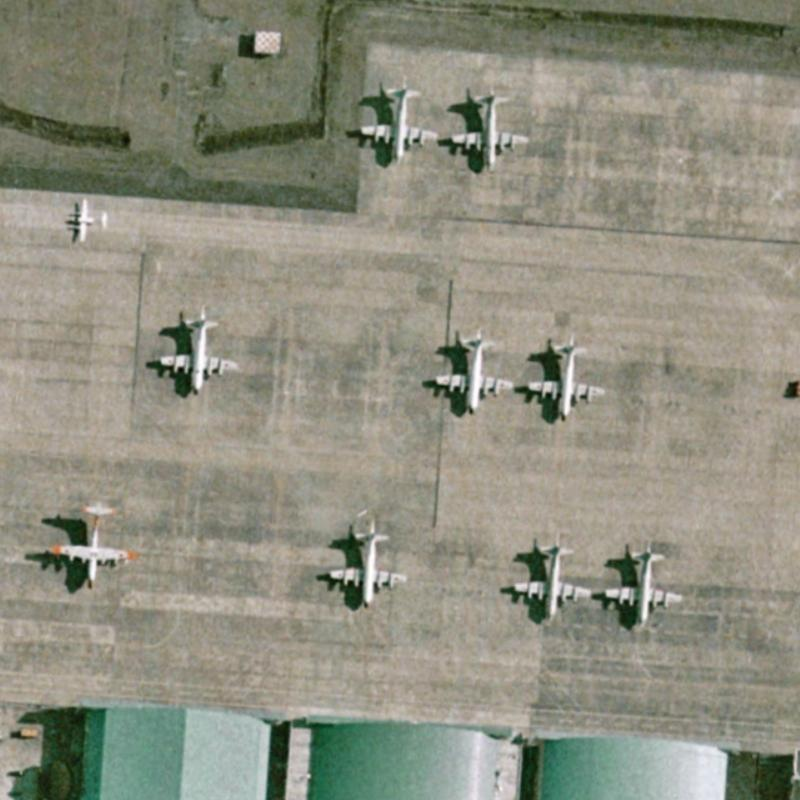A2: (41, 501, 142, 591)
A9: (144, 299, 242, 400), (319, 507, 408, 613), (423, 324, 518, 419), (599, 532, 688, 633), (519, 329, 609, 428), (443, 77, 534, 174), (348, 73, 438, 169), (505, 527, 592, 626)
